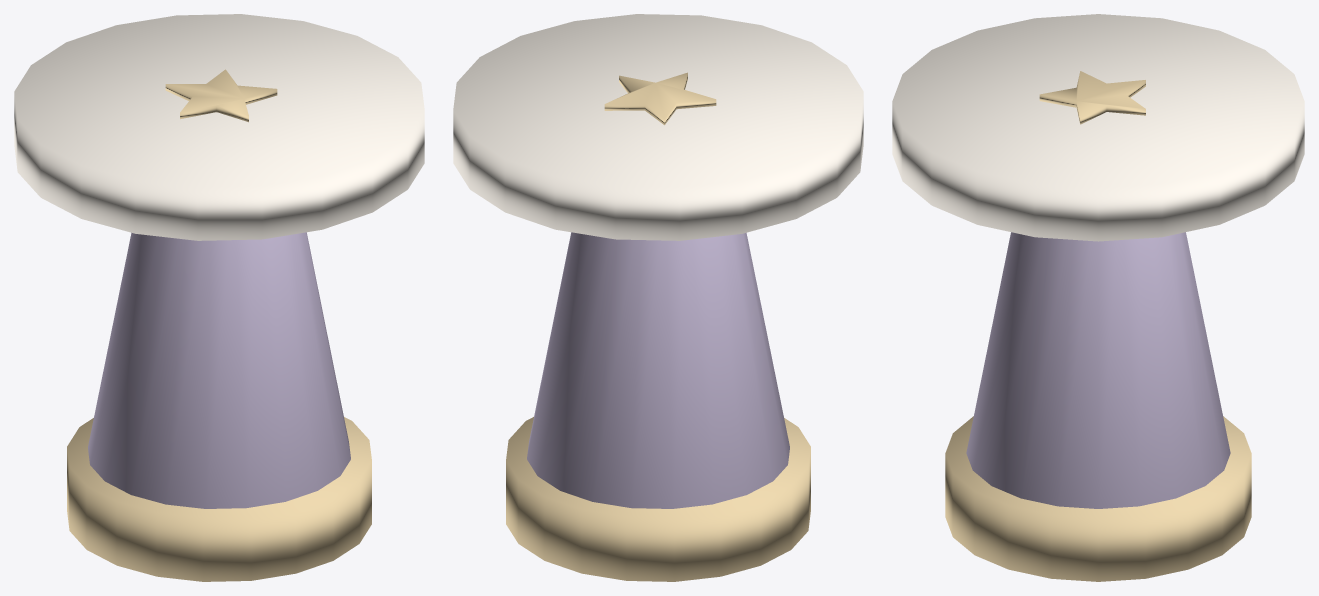
The model's file is side_table.glb.
3 renders of one model, left to right at view 1: azimuth 30°, elevation 25°; view 2: azimuth 150°, elevation 25°; view 3: azimuth 270°, elevation 25°, orthographic.
Parts seen in each view (by area): view 1: tabletop, tapered pedestal, plinth, inlaid top star; view 2: tabletop, tapered pedestal, plinth, inlaid top star; view 3: tabletop, tapered pedestal, plinth, inlaid top star.
Boxes of the visible parts, <box> form: tabletop: <box>14,14,424,240</box>; tapered pedestal: <box>88,232,350,508</box>; plinth: <box>67,417,371,581</box>; inlaid top star: <box>165,69,277,122</box>; tabletop: <box>453,14,863,240</box>; tapered pedestal: <box>527,232,789,508</box>; plinth: <box>506,417,810,581</box>; inlaid top star: <box>604,72,716,125</box>; tabletop: <box>892,14,1304,241</box>; tapered pedestal: <box>966,232,1230,508</box>; plinth: <box>945,416,1251,581</box>; inlaid top star: <box>1039,71,1145,124</box>.
Bounding box in the file's own units: 0.7 × 0.7925 × 0.7.
